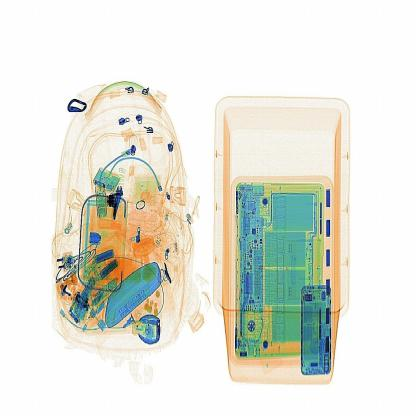scissors: (104, 189, 125, 216)
